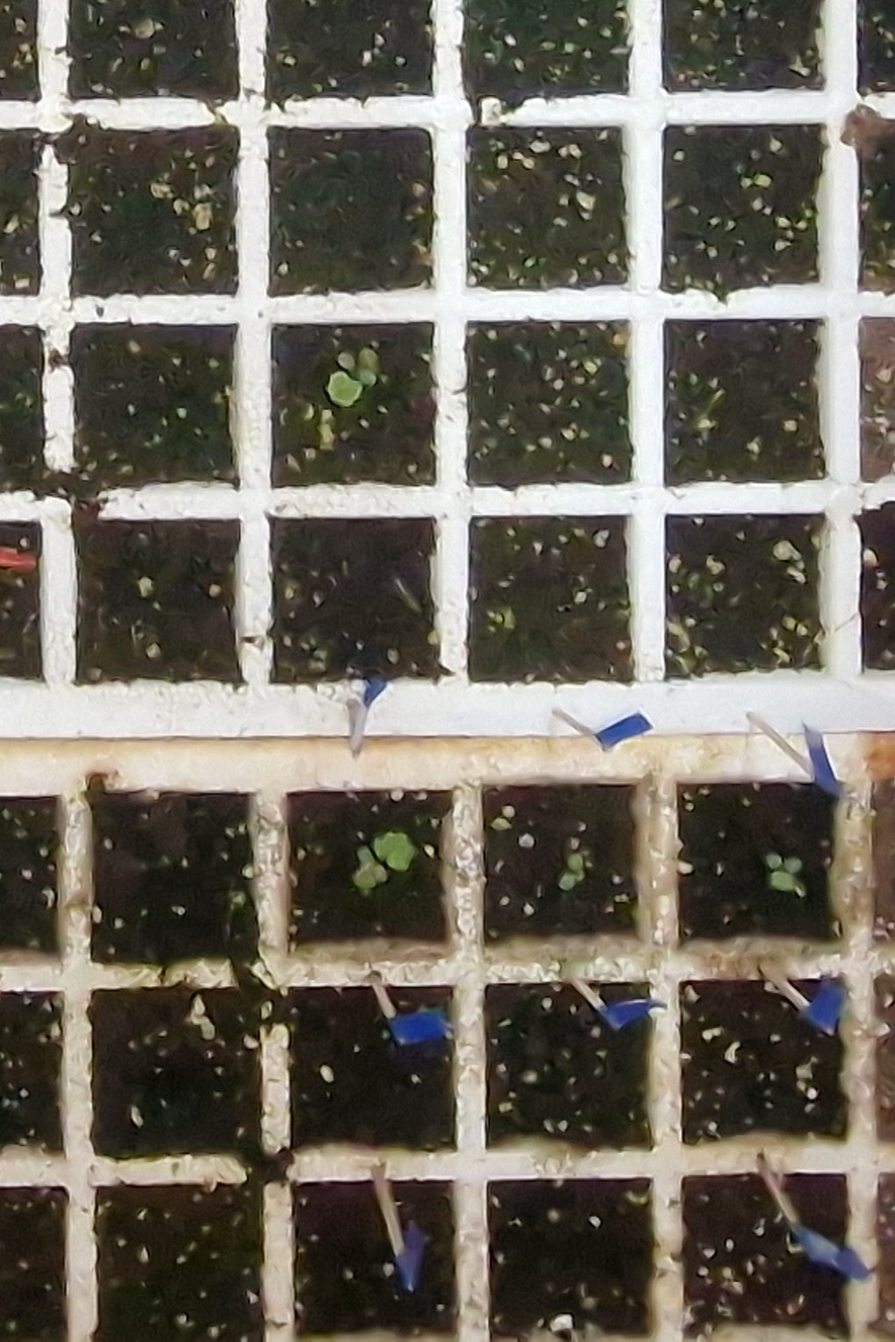Folha: (328, 371, 362, 406), (336, 352, 354, 369), (360, 367, 376, 385)
Germinacao: (327, 351, 376, 407)
